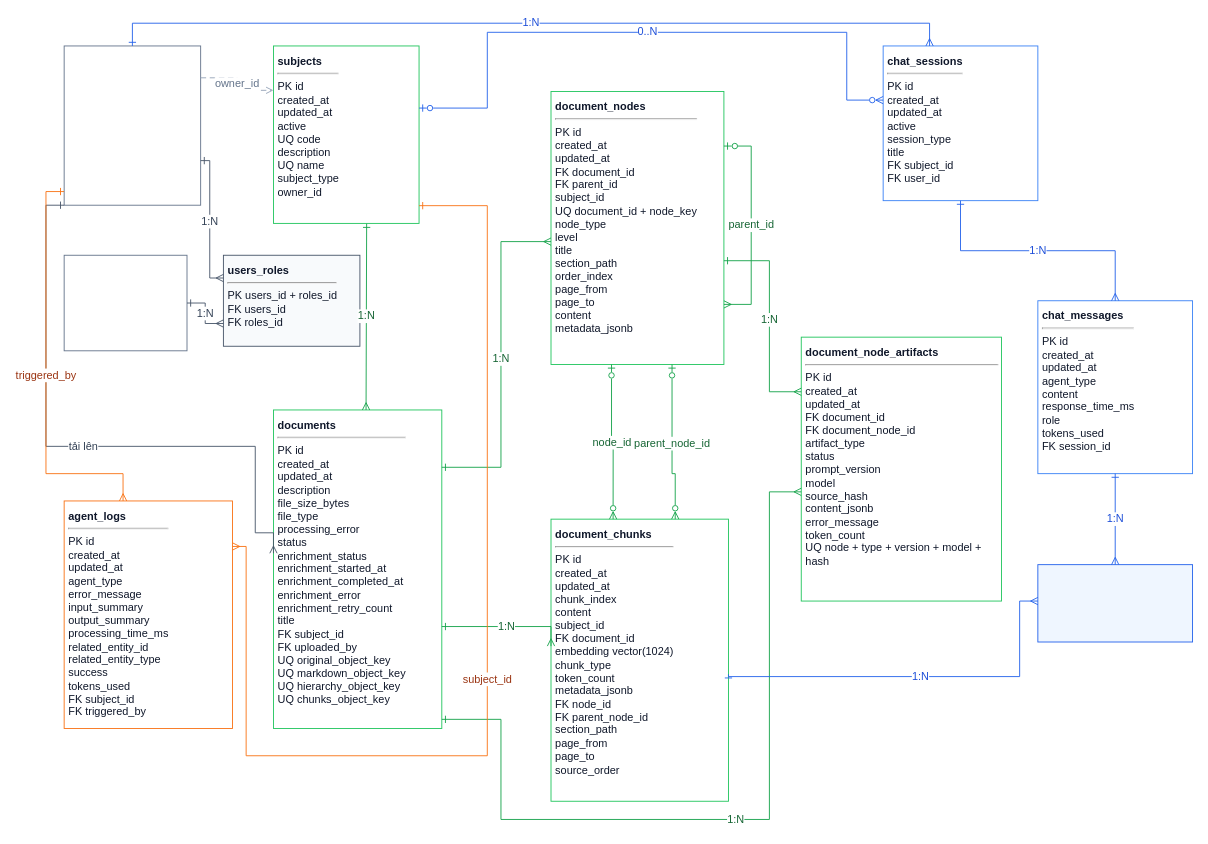
This 1208x844 diagram has some shape labels left out. Here are the shapes that lost their labels. From the top down, the centre of each, then its label:
At point (132, 125): "users PK id created_at updated_at avatar UQ email enabled full_name password".
At point (125, 302): "role PK id created_at updated_at UQ name".
At point (1115, 603): "message_source_chunks FK message_id FK chunk_id".
